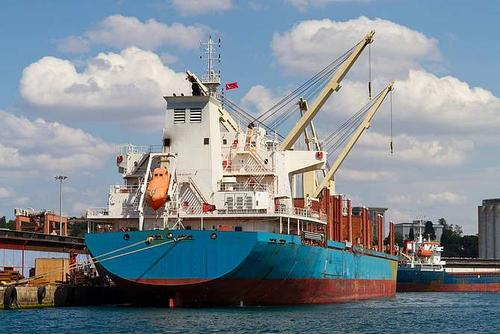Cargoship: (71, 71, 397, 305), (388, 228, 500, 296)
